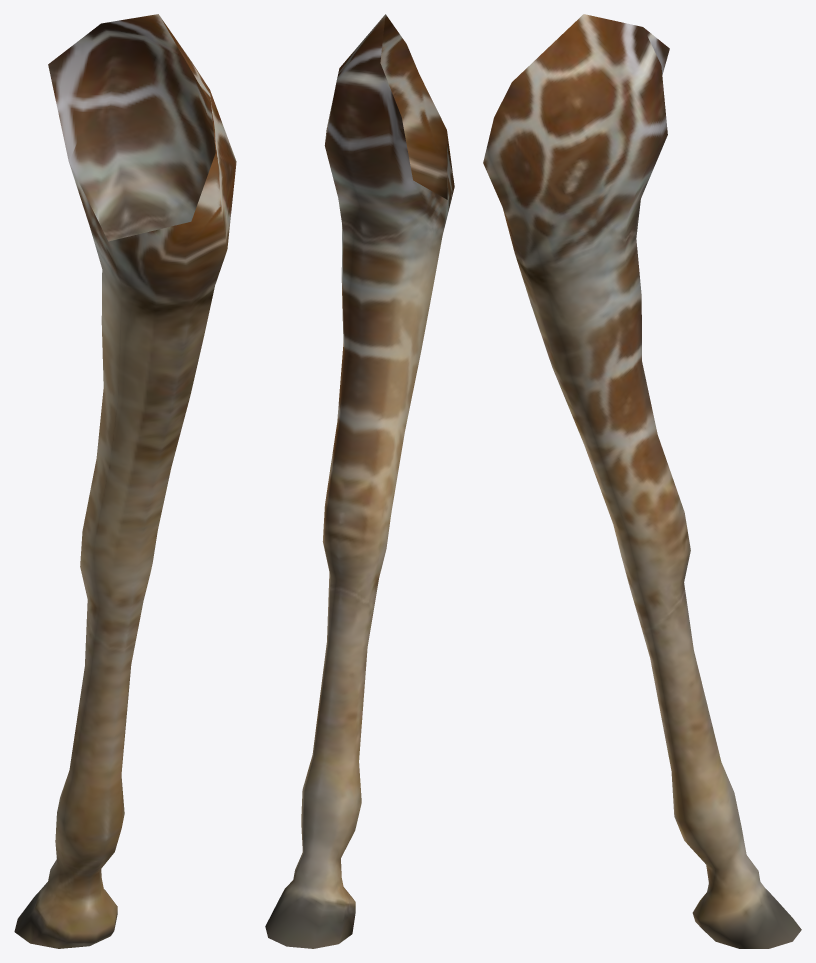
Rendered from jF_rightleg.obj.
3 views of the same model, side by side, from view 1: azimuth 30°, elevation 25°; view 2: azimuth 150°, elevation 25°; view 3: azimuth 270°, elevation 25° (orthographic). The views are drawn at different scales.
Parts seen in each view (by area): view 1: 1.002; view 2: 1.002; view 3: 1.002.
Boxes of the visible parts, x1,y1,x2,y2 form: 1.002: [14, 14, 236, 948]; 1.002: [265, 14, 454, 948]; 1.002: [483, 14, 801, 948].
Bounding box in the file's own units: 0.6104 × 4.69 × 1.48.
1 material, 1 textured.
